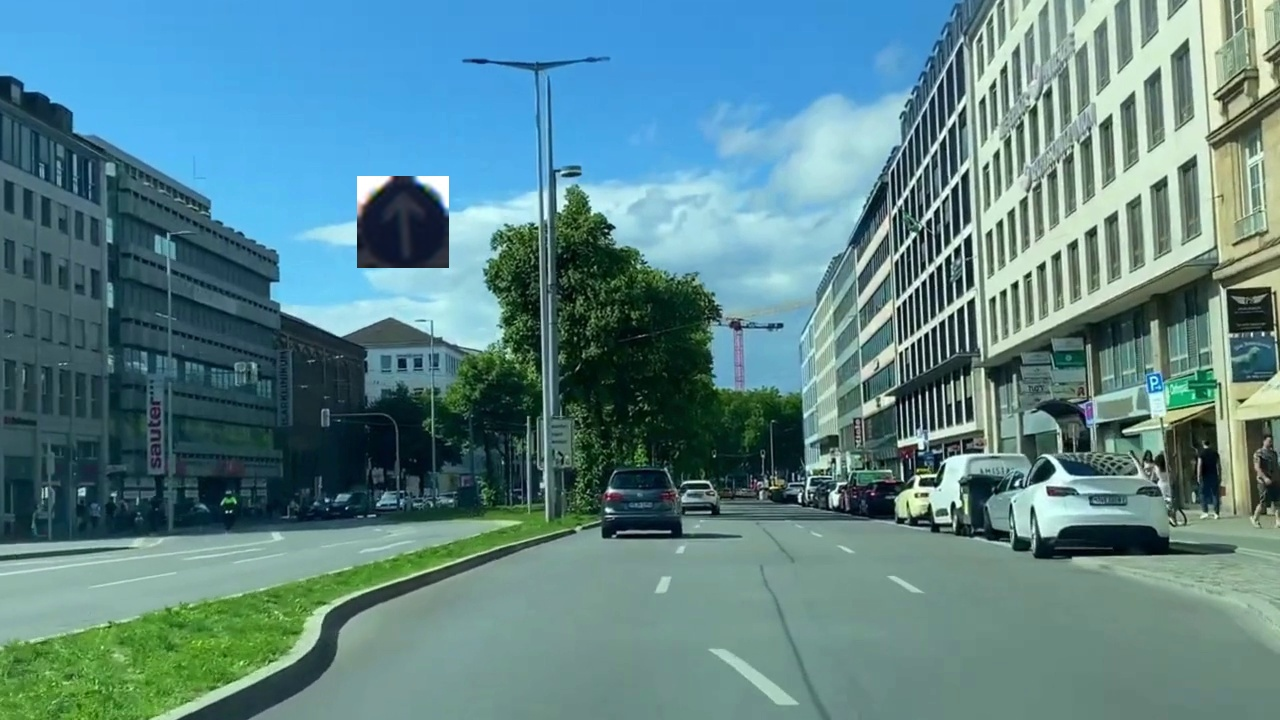Ahead only: (357, 176, 449, 268)
